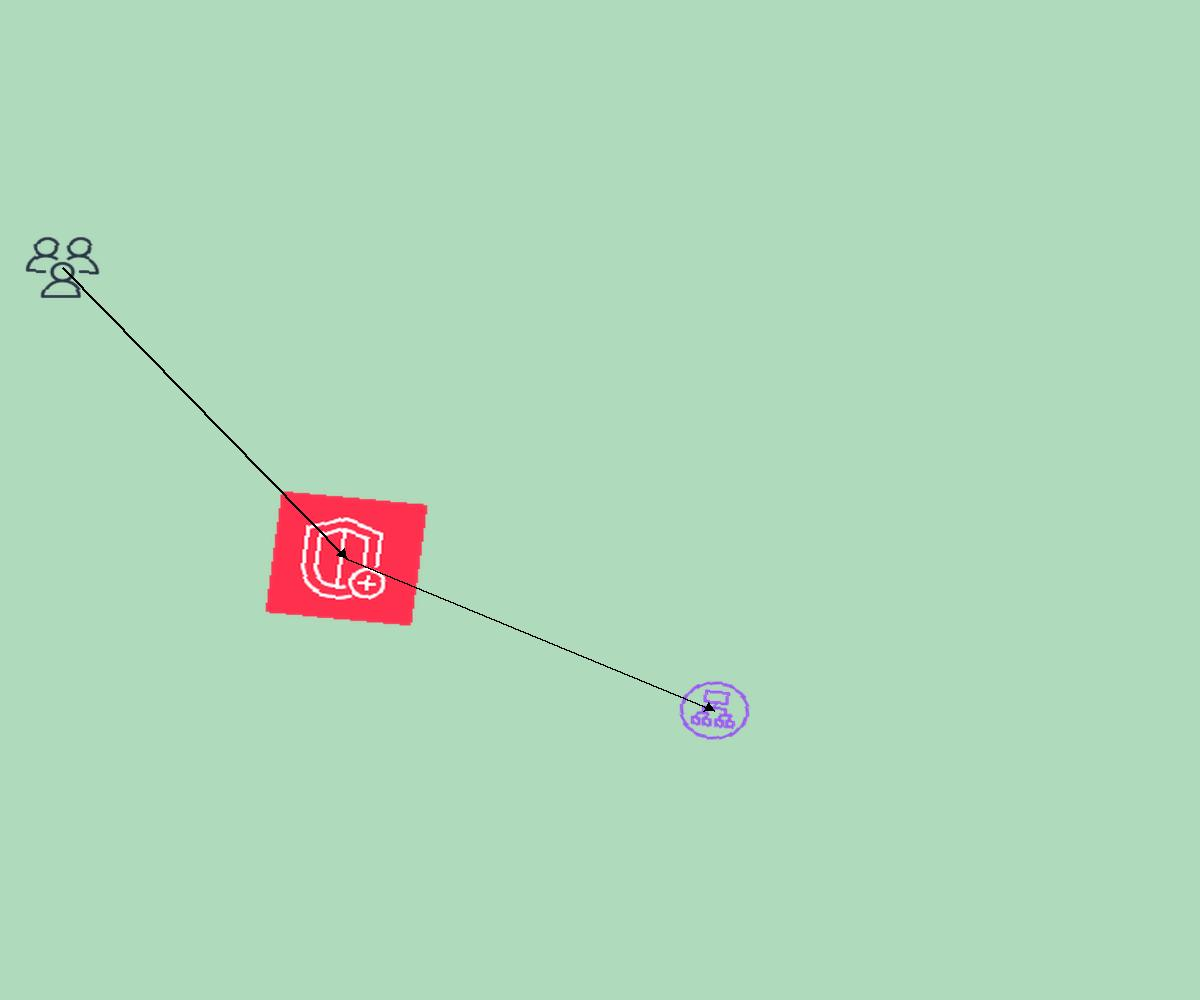AWS-Res_Elastic-Load-Balancing_Application-Load-Balancer: (672, 675, 757, 746)
AWS-Res_Users: (21, 233, 104, 302)
AWS-Shield: (264, 490, 429, 627)
